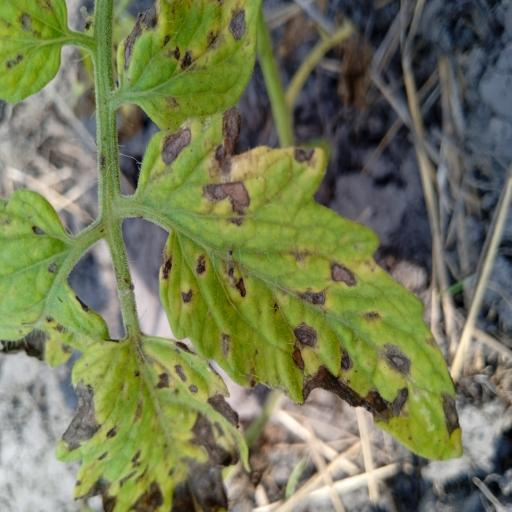Tomato_Brown_Spots: (130, 92, 465, 465), (53, 327, 249, 512), (0, 171, 119, 370), (112, 0, 264, 140)
